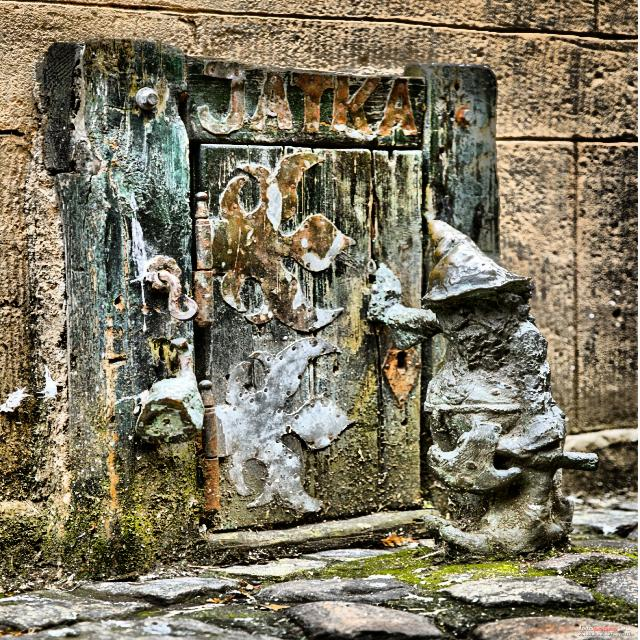Rzeznik: (370, 221, 598, 556)
